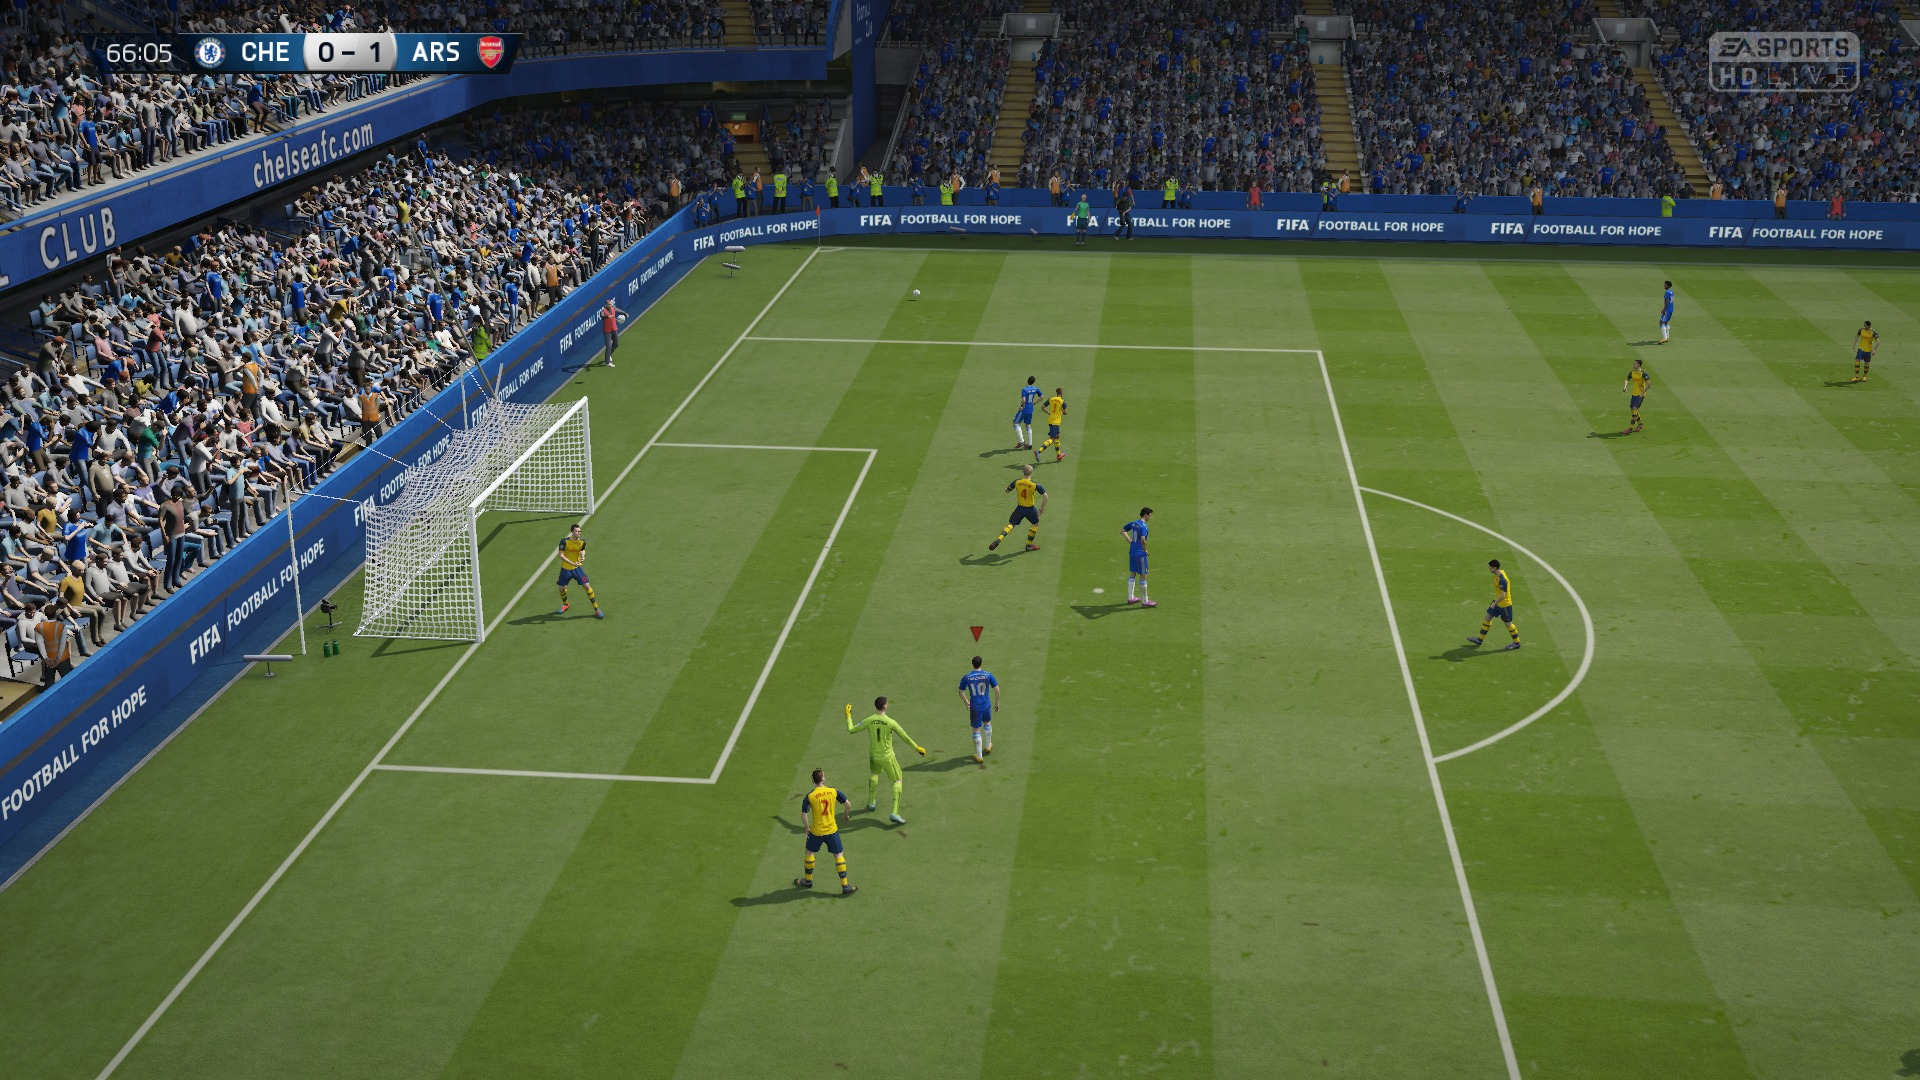ball: (911, 285, 930, 300)
goal: (305, 399, 586, 648)
player: (842, 697, 917, 832), (802, 769, 855, 898), (988, 469, 1044, 554), (1476, 559, 1527, 652), (958, 657, 999, 766), (560, 522, 603, 621), (1125, 503, 1159, 610), (1624, 355, 1654, 436), (1047, 386, 1069, 468), (1014, 374, 1038, 450), (1853, 319, 1881, 381), (1656, 279, 1680, 347)
